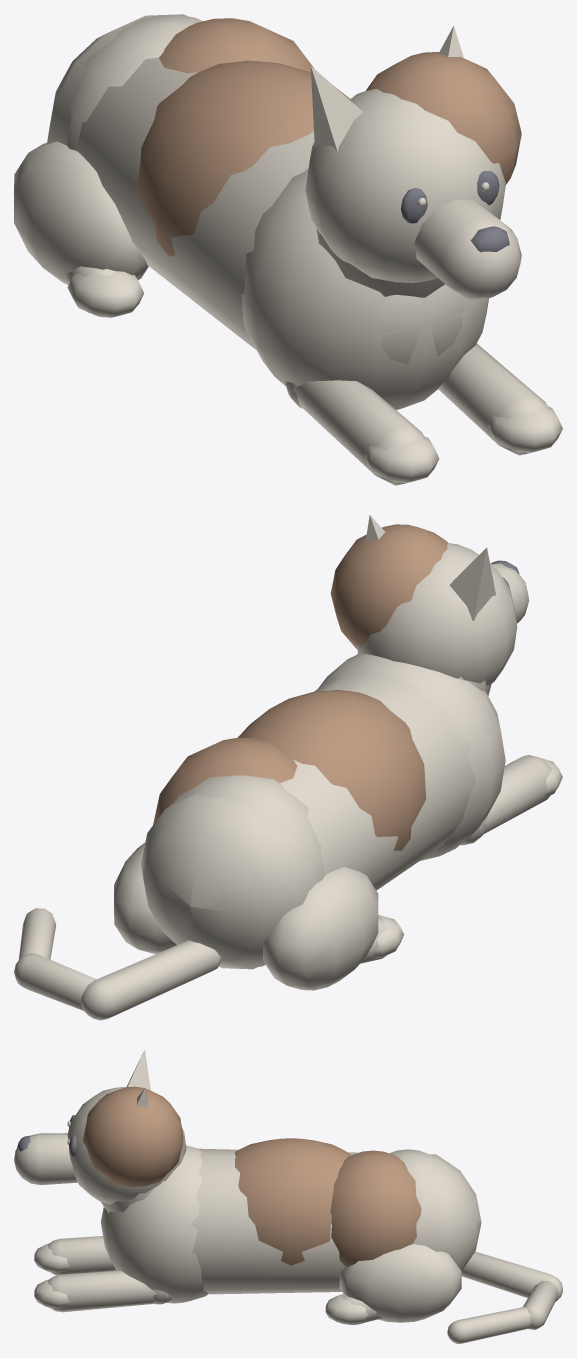
File: companion-animals-and-pet-home-dog-terrier-lie-4eacd573__20568.glb
3 renders of one model, top to bottom at view 1: azimuth 30°, elevation 25°; view 2: azimuth 150°, elevation 25°; view 3: azimuth 270°, elevation 25°, orthographic. The views are drawn at different scales.
Visible parts, largest first — view 1: dog-terrier-lie; view 2: dog-terrier-lie; view 3: dog-terrier-lie.
Boxes of the visible parts, bbox=[...] form: dog-terrier-lie: bbox=[14, 14, 562, 485]; dog-terrier-lie: bbox=[14, 514, 562, 1020]; dog-terrier-lie: bbox=[14, 1049, 562, 1343].
Bounding box in the file's own units: 0.29 × 0.2907 × 0.6345.
